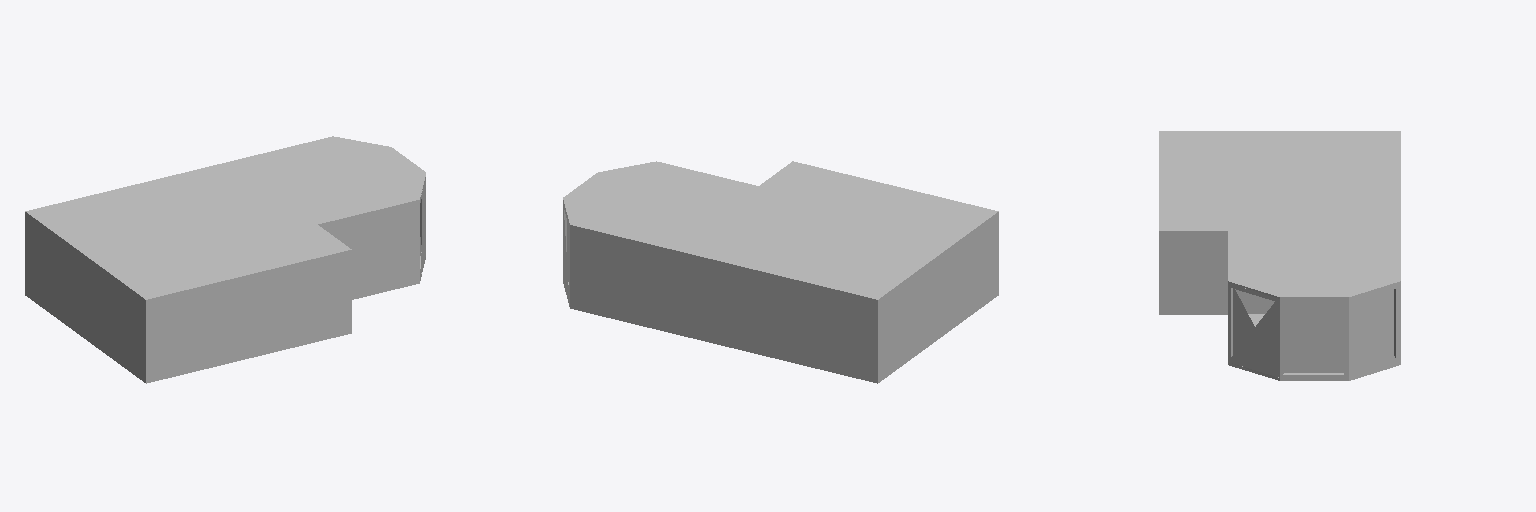
Rendered from spaceship1.obj.
The picture shows the model from 3 angles: view 1: azimuth 30°, elevation 25°; view 2: azimuth 150°, elevation 25°; view 3: azimuth 270°, elevation 25°; orthographic projection.
Visible parts, largest first — view 1: Cap, Walls, Floor; view 2: Cap, Walls, Floor; view 3: Cap, Walls, Floor.
Boxes of the visible parts, <box> form: Cap: <box>25,136,425,302</box>; Walls: <box>25,178,425,379</box>; Floor: <box>25,257,425,383</box>; Cap: <box>563,161,998,302</box>; Walls: <box>563,203,998,379</box>; Floor: <box>564,287,998,383</box>; Cap: <box>1159,131,1400,299</box>; Walls: <box>1159,233,1400,379</box>; Floor: <box>1159,312,1400,380</box>.
Bounding box in the file's own units: 22.67 × 5.33 × 13.92.